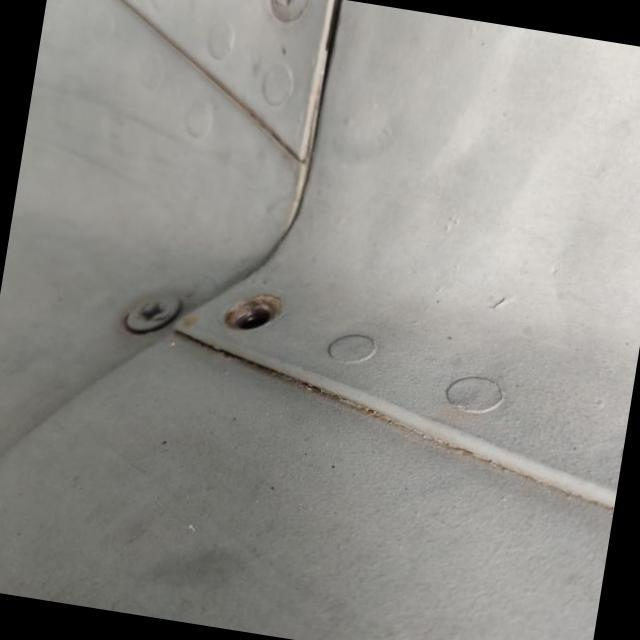Fastener Damage: (192, 259, 306, 368)
